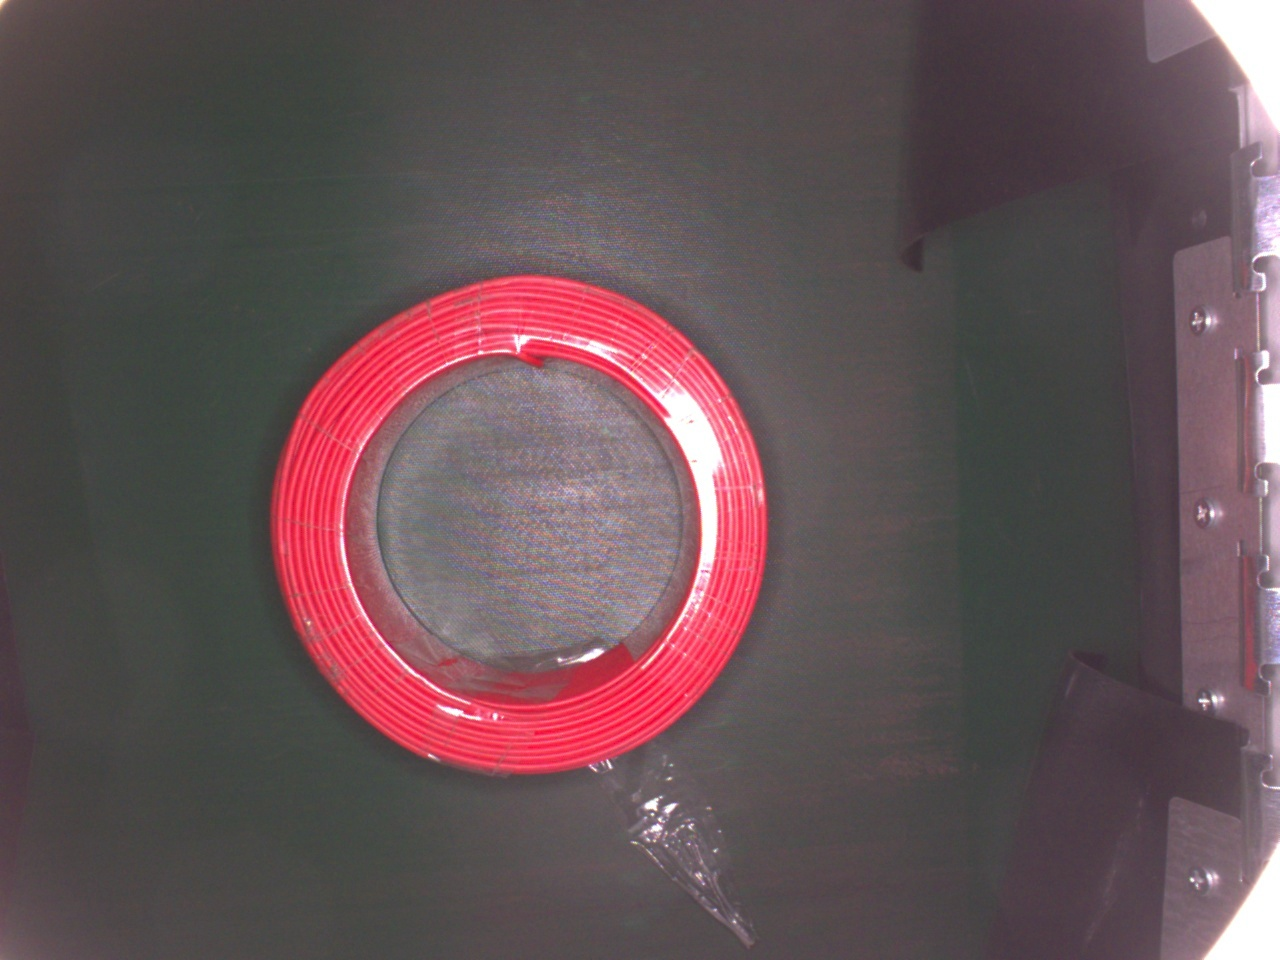red: (268, 272, 775, 785)
